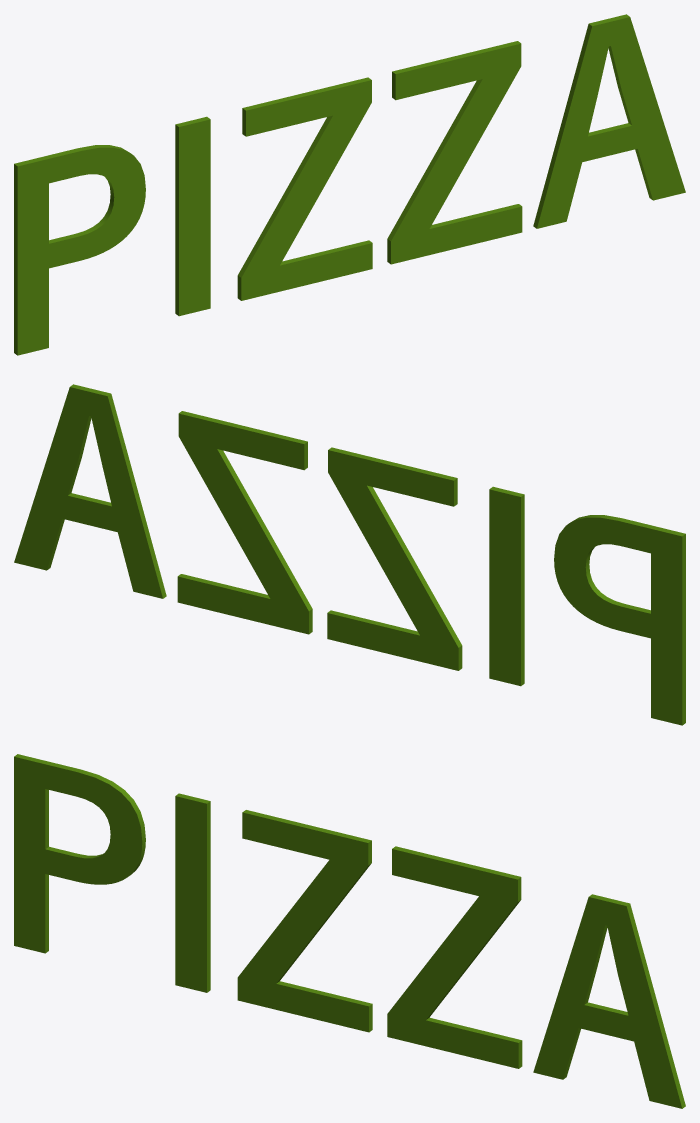
File: Props15.fbx
The picture shows the model from 3 angles, top to bottom: view 1: azimuth 30°, elevation 25°; view 2: azimuth 150°, elevation 25°; view 3: azimuth 330°, elevation 25°; orthographic projection.
Parts seen in each view (by area): view 1: Props15; view 2: Props15; view 3: Props15.
Boxes of the visible parts, x1=… form: Props15: x1=14, y1=14, x2=685, y2=355; Props15: x1=14, y1=384, x2=685, y2=725; Props15: x1=14, y1=754, x2=685, y2=1108.
Size of the model in its own units: 12.96 by 3.51 by 0.1224.
